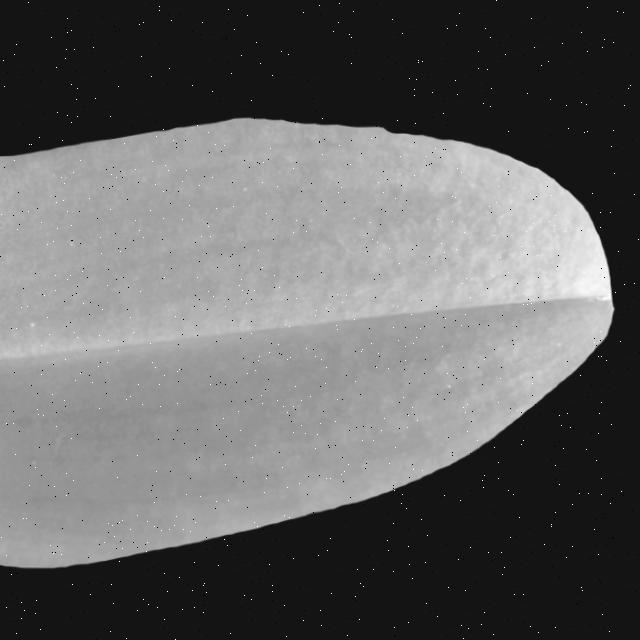mite: (14, 409, 76, 472), (24, 315, 43, 332), (240, 182, 251, 193), (28, 319, 39, 329), (68, 238, 78, 248), (31, 457, 41, 467)
spots: (0, 111, 615, 571)
